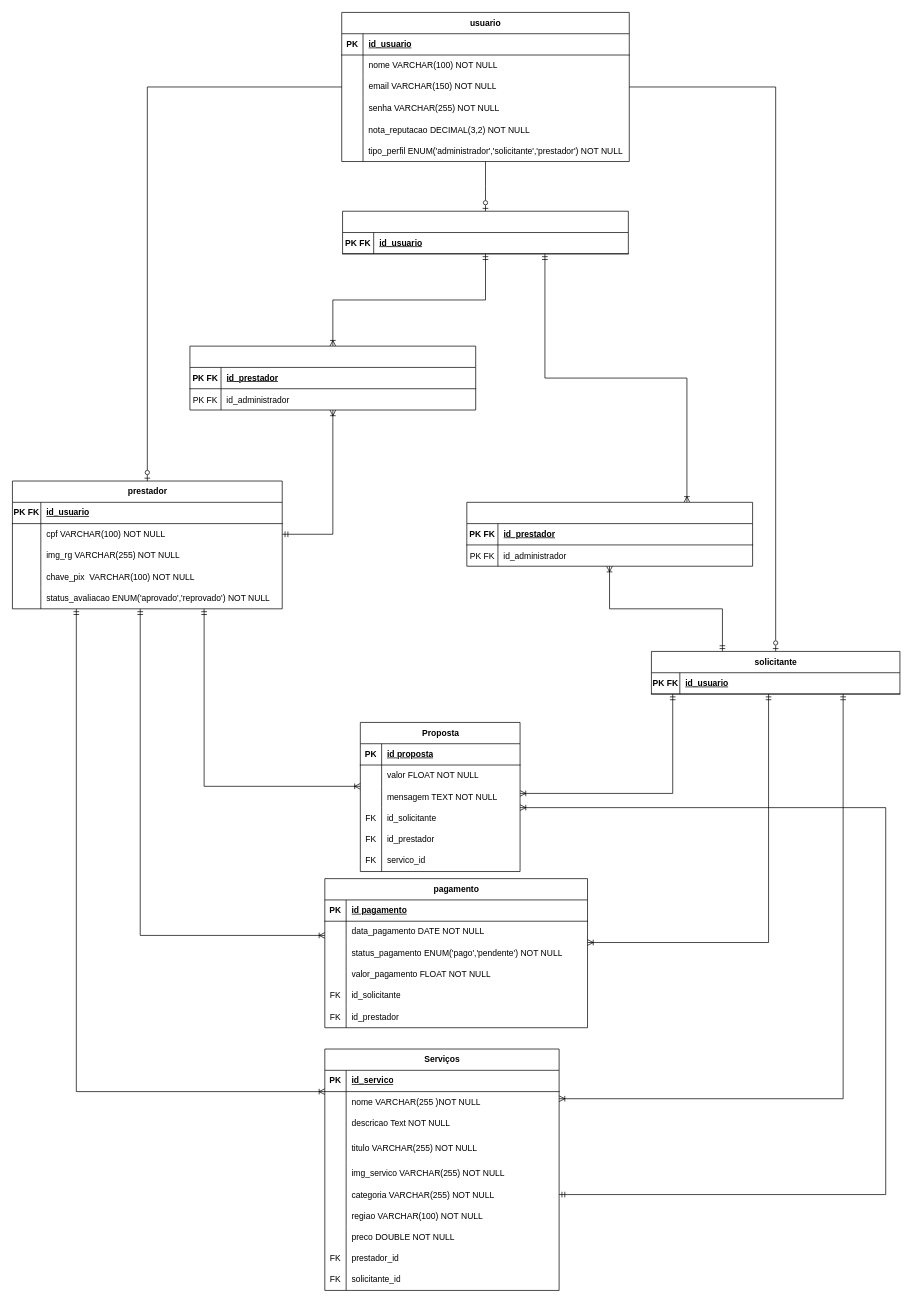
Some shapes in this 912 by 1303 pixel diagram are drawn without their labels. The box of each missing label's shape, as (x1, y1, x2, y2) in pixels:
administrador: (342, 211, 628, 254)
administrador_prestador: (189, 345, 476, 410)
administrador_solicitante: (466, 502, 753, 566)
